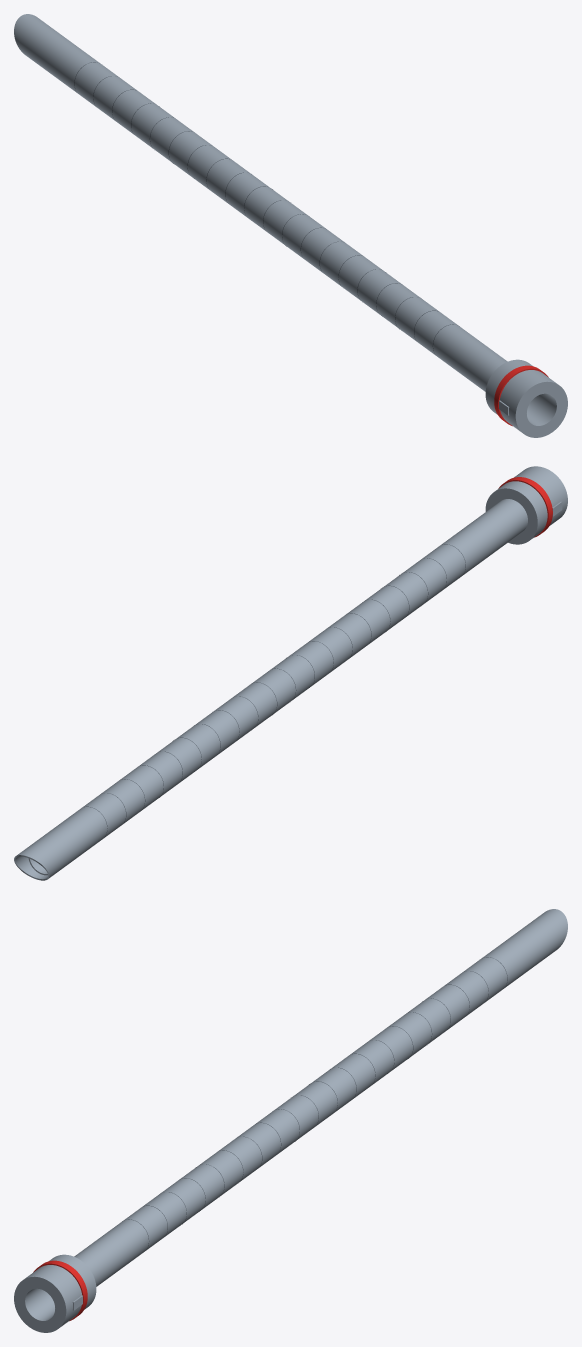
File: bt2203-3-tracheal-tube-od10p00-id9p20mm.glb
3 views of the same model, one above another, from view 1: azimuth 30°, elevation 25°; view 2: azimuth 150°, elevation 25°; view 3: azimuth 330°, elevation 25° (orthographic).
Parts seen in each view (by area): view 1: BT2203_3_Hollow_Beveled_Tube, BT2203_3_Quarter_Turn_Connector, BT2203_3_Metric_Depth_Scale; view 2: BT2203_3_Hollow_Beveled_Tube, BT2203_3_Quarter_Turn_Connector, BT2203_3_Metric_Depth_Scale; view 3: BT2203_3_Hollow_Beveled_Tube, BT2203_3_Quarter_Turn_Connector, BT2203_3_Metric_Depth_Scale.
Boxes of the visible parts, x1=… form: BT2203_3_Hollow_Beveled_Tube: x1=14, y1=14, x2=507, y2=391; BT2203_3_Quarter_Turn_Connector: x1=485, y1=359, x2=567, y2=437; BT2203_3_Metric_Depth_Scale: x1=74, y1=62, x2=458, y2=353; BT2203_3_Hollow_Beveled_Tube: x1=14, y1=499, x2=527, y2=880; BT2203_3_Quarter_Turn_Connector: x1=485, y1=466, x2=567, y2=544; BT2203_3_Metric_Depth_Scale: x1=84, y1=544, x2=465, y2=836; BT2203_3_Hollow_Beveled_Tube: x1=74, y1=909, x2=567, y2=1286; BT2203_3_Quarter_Turn_Connector: x1=14, y1=1254, x2=96, y2=1332; BT2203_3_Metric_Depth_Scale: x1=123, y1=957, x2=507, y2=1248.
Bounding box in the file's own units: 0.0167 × 0.0167 × 0.274.
